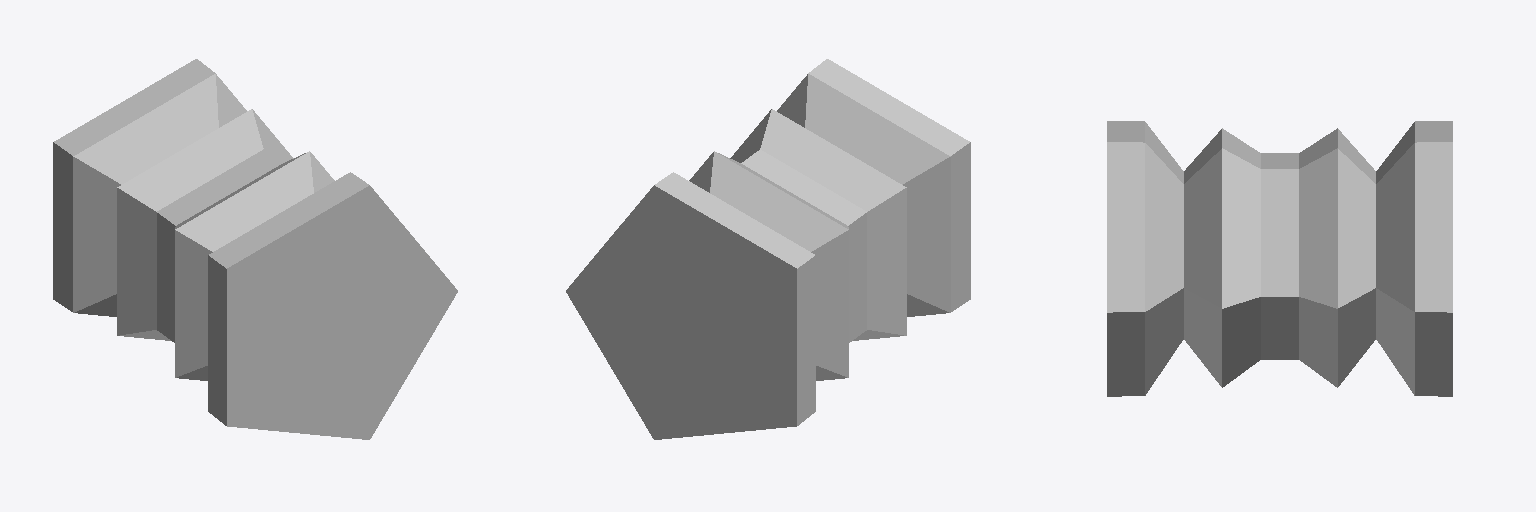
Rendered from hose.obj.
3 renders of one model, left to right at view 1: azimuth 30°, elevation 25°; view 2: azimuth 150°, elevation 25°; view 3: azimuth 270°, elevation 25°, orthographic.
Visible parts, largest first — view 1: Hose001; view 2: Hose001; view 3: Hose001.
Boxes of the visible parts, x1=… form: Hose001: x1=53, y1=59, x2=457, y2=439; Hose001: x1=566, y1=59, x2=970, y2=439; Hose001: x1=1107, y1=121, x2=1452, y2=396.
Size of the model in its own units: 2.28 by 2.4 by 2.95.